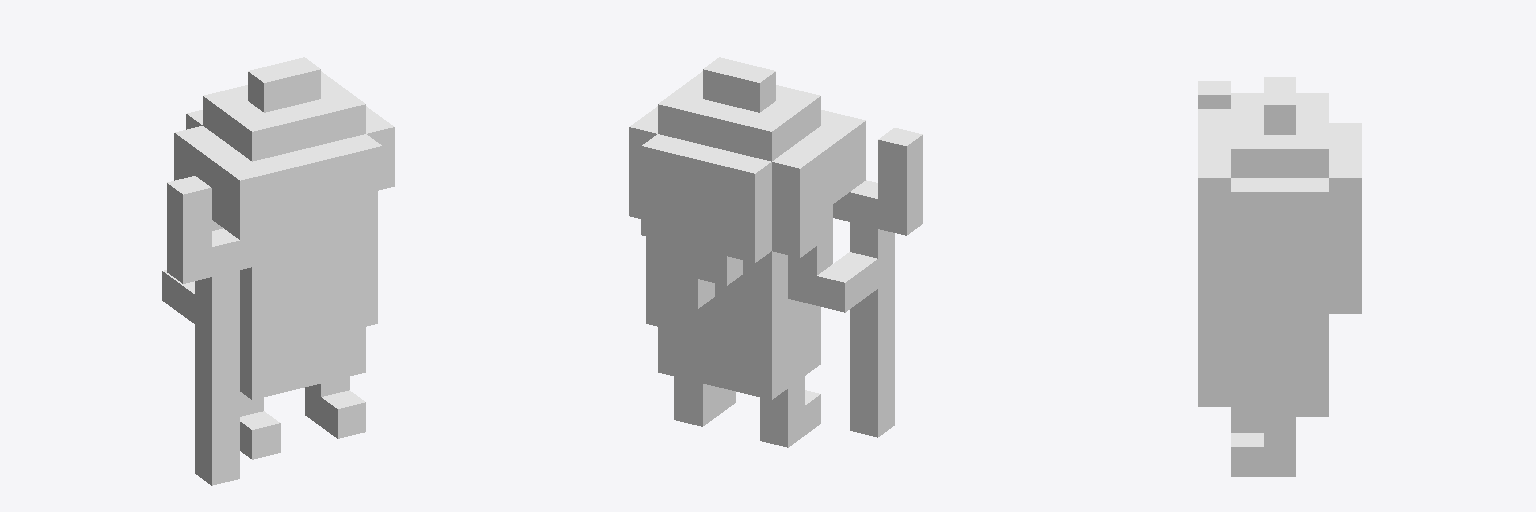
Rendered from farmer.obj.
3 views of the same model, side by side, from view 1: azimuth 30°, elevation 25°; view 2: azimuth 150°, elevation 25°; view 3: azimuth 270°, elevation 25° (orthographic).
Bounding box in the file's own units: 8 × 12 × 5.